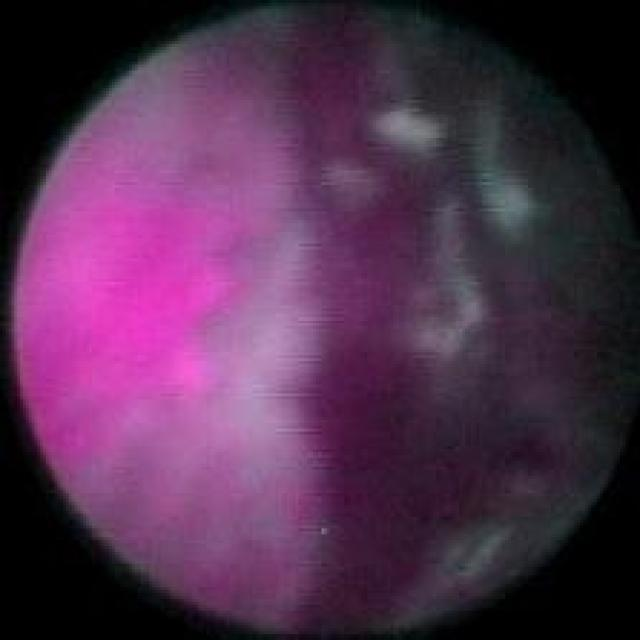blur: (56, 55, 608, 603)
